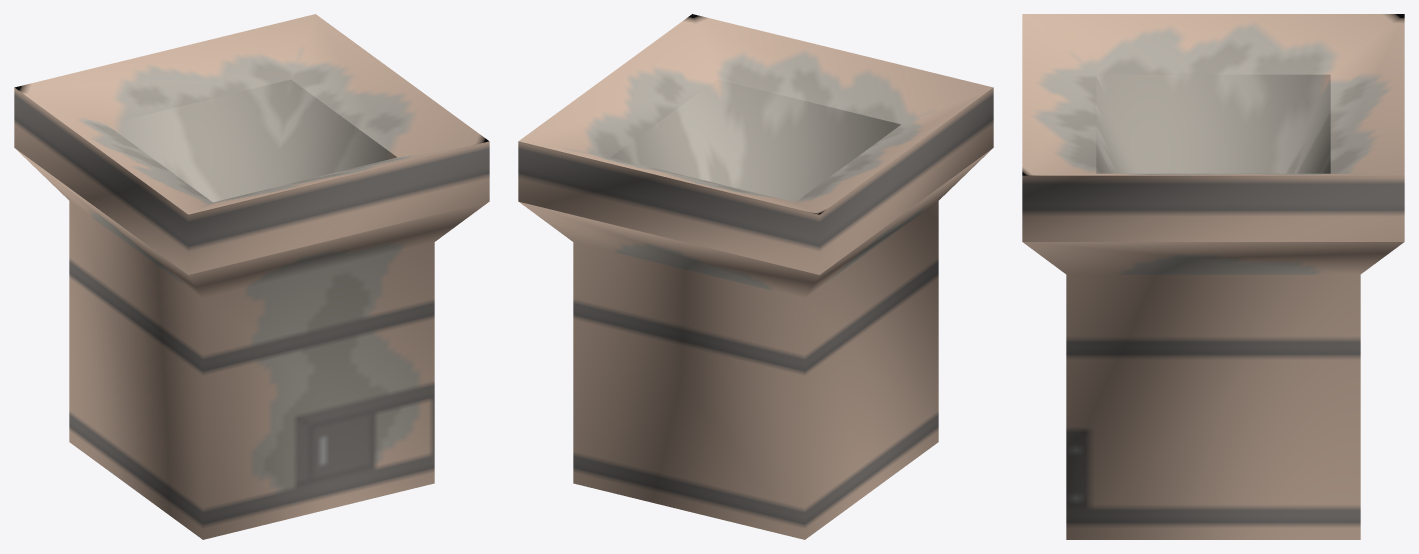
Rendered from 0564_Apartment_Building_1.glb.
The picture shows the model from 3 angles, left to right: view 1: azimuth 30°, elevation 25°; view 2: azimuth 150°, elevation 25°; view 3: azimuth 270°, elevation 25°; orthographic projection. The views are drawn at different scales.
Parts seen in each view (by area): view 1: part_0; view 2: part_0; view 3: part_0.
Boxes of the visible parts, bbox=[...] form: part_0: bbox=[14, 14, 489, 539]; part_0: bbox=[518, 14, 993, 539]; part_0: bbox=[1022, 14, 1404, 539].
Size of the model in its own units: 0.2612 by 0.2887 by 0.2612.
Materials: 1 (1 with a texture image).
